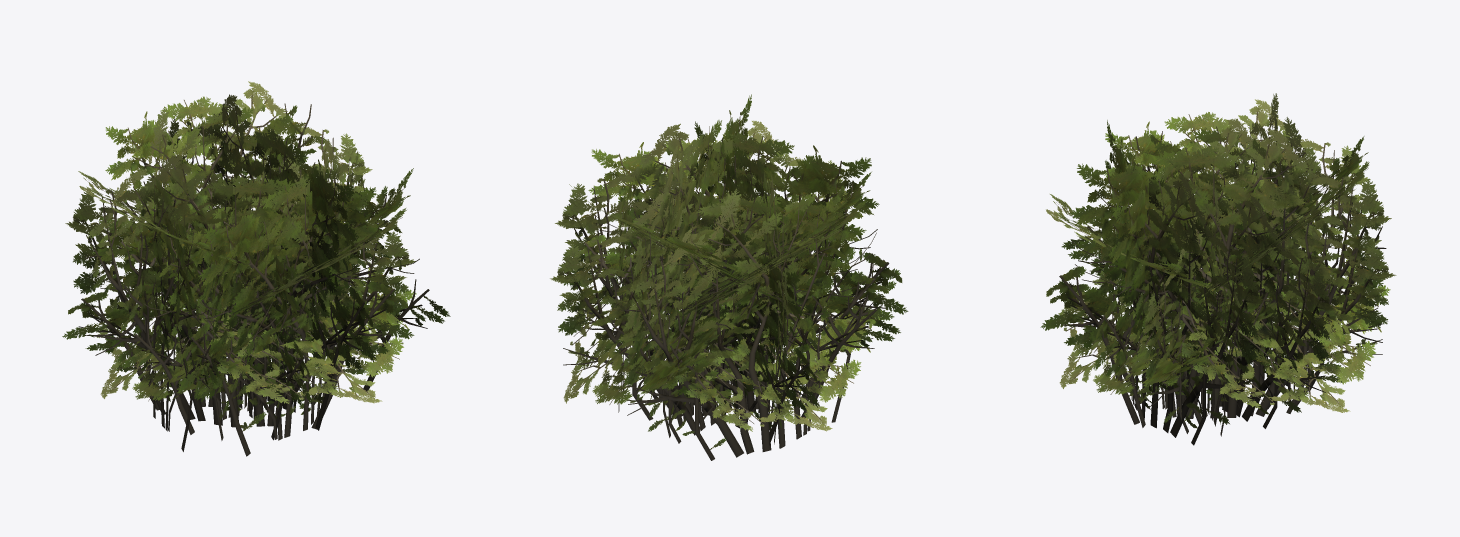
Rendered from Bush-03.gltf.
3 renders of one model, left to right at view 1: azimuth 30°, elevation 25°; view 2: azimuth 150°, elevation 25°; view 3: azimuth 270°, elevation 25°, orthographic.
Parts seen in each view (by area): view 1: Bush-03; view 2: Bush-03; view 3: Bush-03.
Boxes of the visible parts, bbox=[...] form: Bush-03: bbox=[62, 81, 450, 456]; Bush-03: bbox=[550, 94, 908, 460]; Bush-03: bbox=[1040, 93, 1396, 445].
Bounding box in the file's own units: 1.17 × 1.02 × 1.22.
2 materials, 2 textured.
